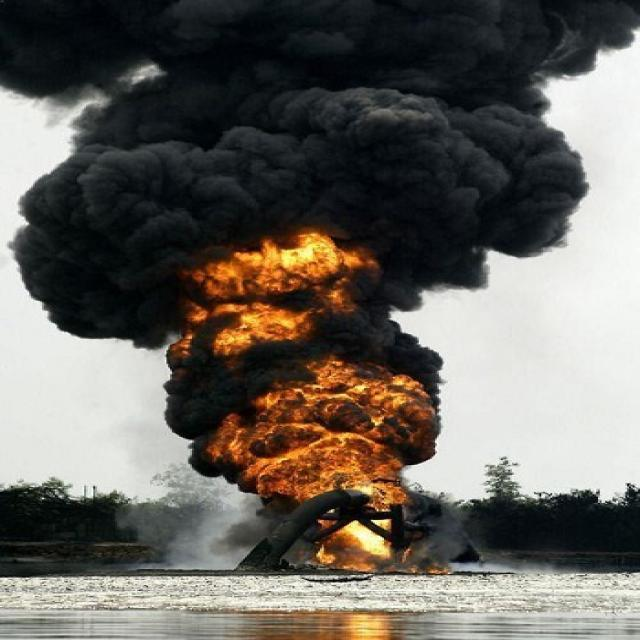Fire: (200, 354, 440, 508), (192, 229, 366, 293), (174, 294, 310, 356), (321, 518, 388, 570)
Smoke: (367, 0, 640, 312), (0, 0, 220, 349), (220, 1, 363, 228)
